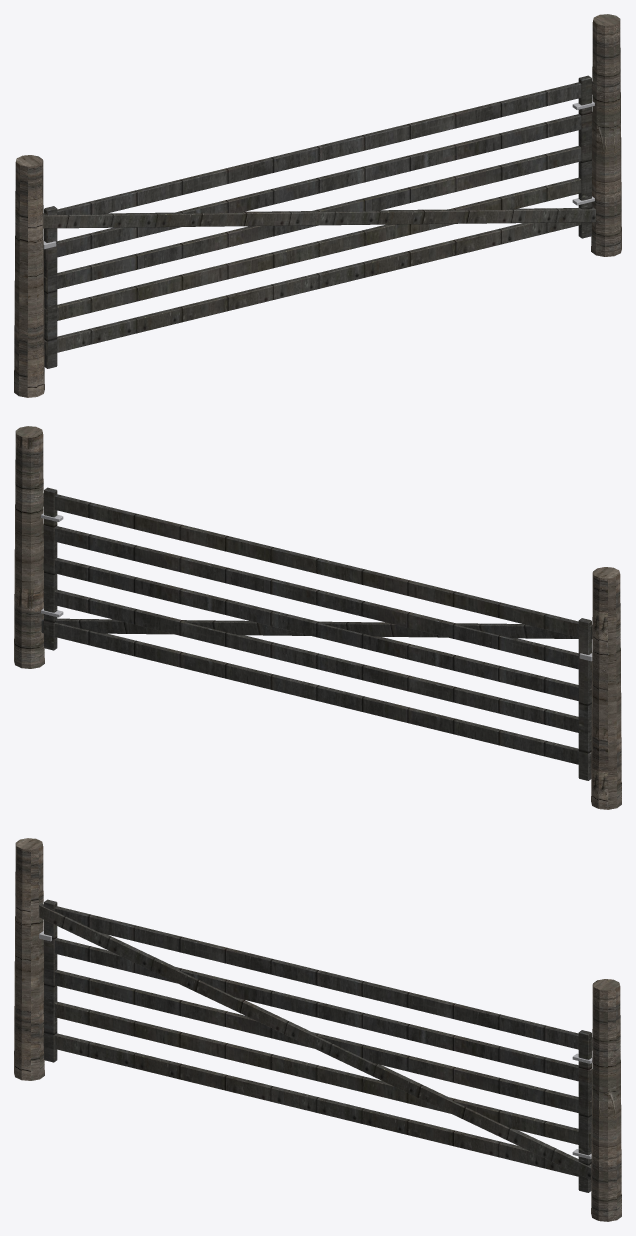
The model's file is pasture_gate_a.glb.
The picture shows the model from 3 angles, top to bottom: view 1: azimuth 30°, elevation 25°; view 2: azimuth 150°, elevation 25°; view 3: azimuth 330°, elevation 25°; orthographic projection.
Parts seen in each view (by area): view 1: pasture_gate_a_gate, pasture_gate_a_posts; view 2: pasture_gate_a_gate, pasture_gate_a_posts; view 3: pasture_gate_a_gate, pasture_gate_a_posts.
Part boxes in pixels (x1,y1,x2,y2): pasture_gate_a_gate: [43, 75, 595, 368]; pasture_gate_a_posts: [14, 14, 621, 397]; pasture_gate_a_gate: [41, 487, 592, 780]; pasture_gate_a_posts: [14, 426, 621, 809]; pasture_gate_a_gate: [39, 899, 592, 1192]; pasture_gate_a_posts: [14, 838, 621, 1221].
Size of what is drawn, in the model's own units: 3.97 by 1.45 by 0.18.
Materials: 3 (2 with a texture image).
